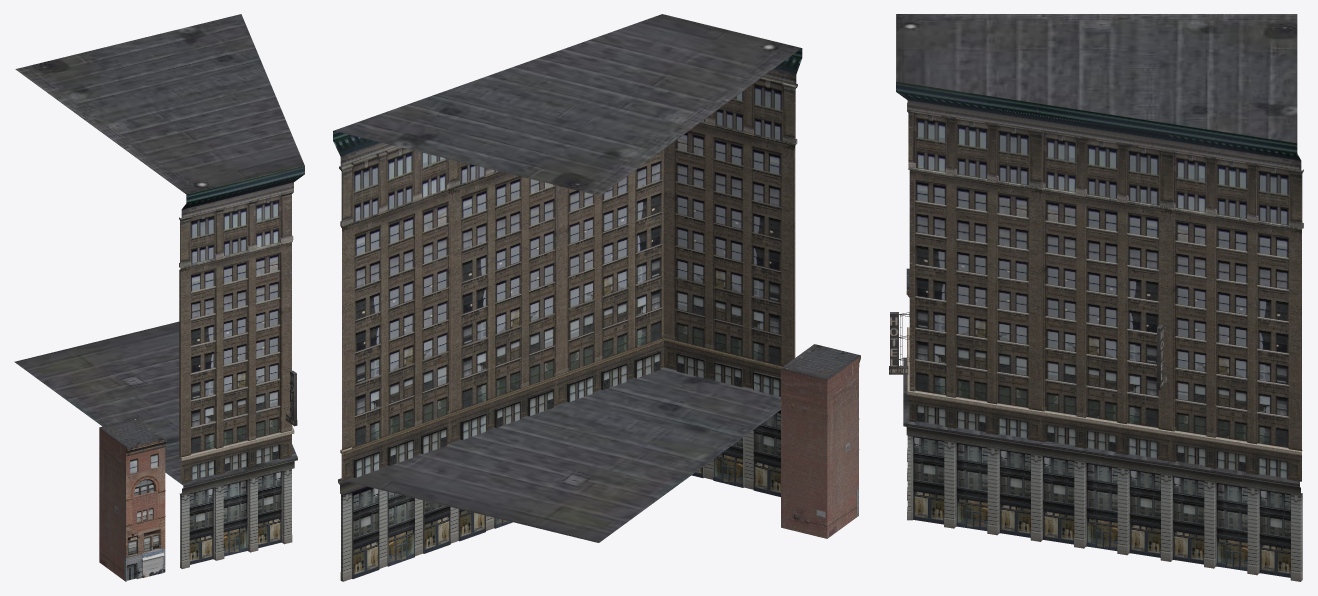
Rendered from new_york_buildings_opt.glb.
3 views of the same model, side by side, from view 1: azimuth 30°, elevation 25°; view 2: azimuth 150°, elevation 25°; view 3: azimuth 270°, elevation 25° (orthographic). The views are drawn at different scales.
Parts seen in each view (by area): view 1: Object_4; view 2: Object_4; view 3: Object_4.
Part boxes in pixels (x1=…): Object_4: x1=14, y1=14, x2=304, y2=581; Object_4: x1=333, y1=14, x2=860, y2=581; Object_4: x1=889, y1=14, x2=1303, y2=581.
Size of what is drawn, in the model's own units: 183 by 235 by 200.
1 material, 1 textured.
